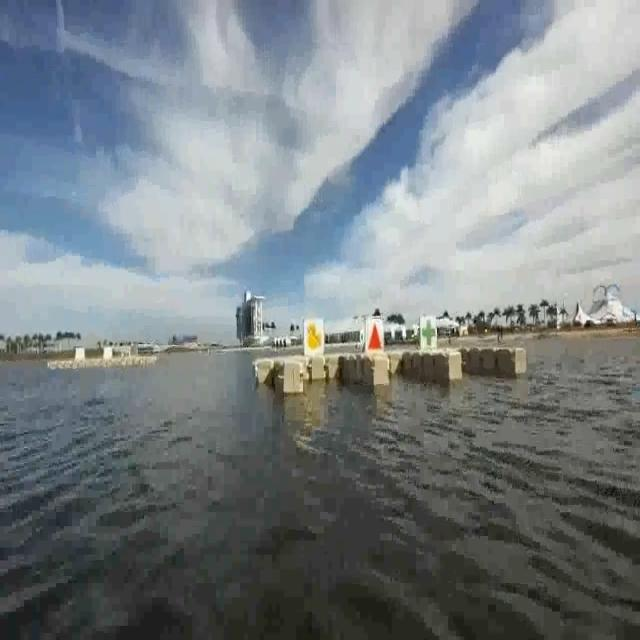blue-cross: (420, 317, 437, 351)
red-dot: (366, 317, 385, 355)
yellow-buoy: (306, 320, 322, 354)
